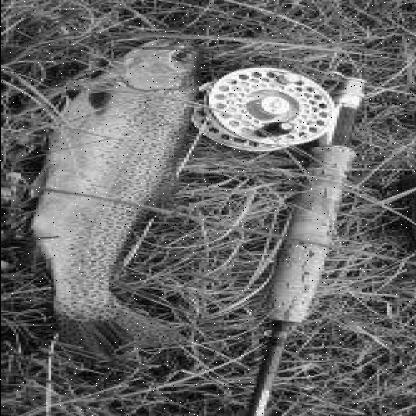fish: (20, 31, 208, 357)
